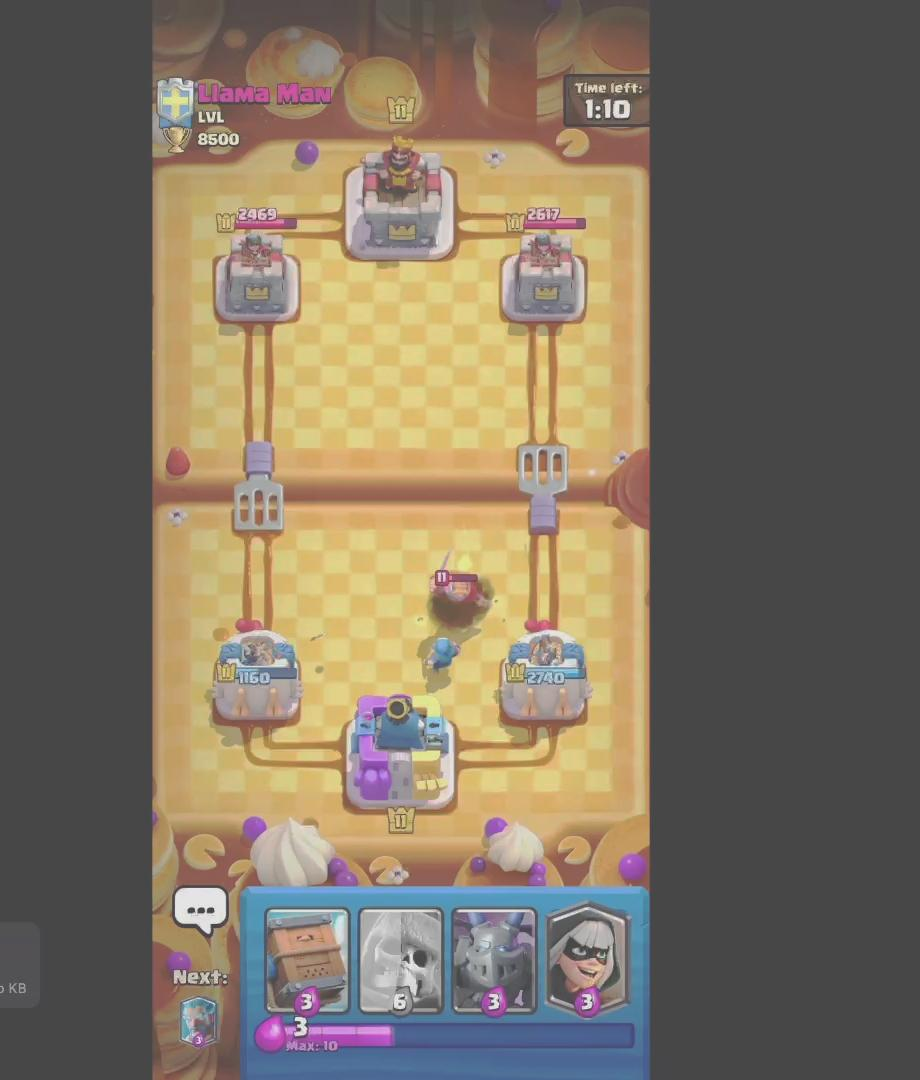Knight: (423, 554, 496, 620)
